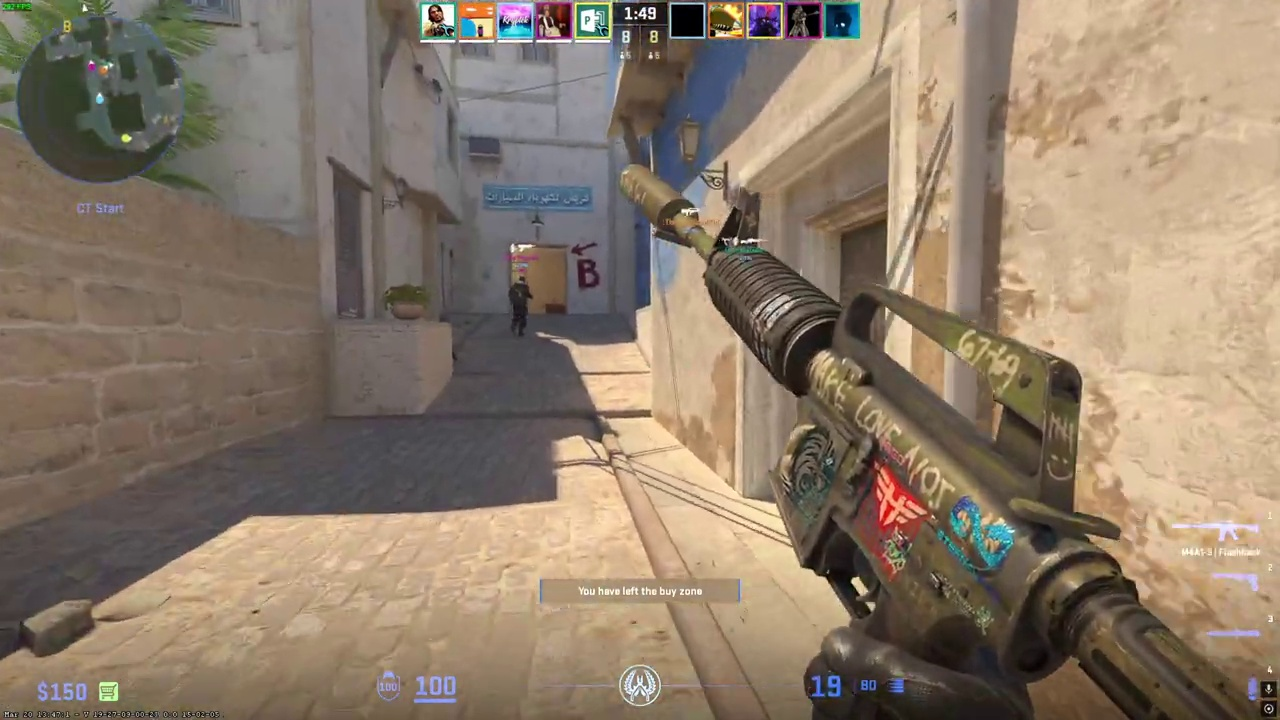CT: (508, 276, 533, 337)
